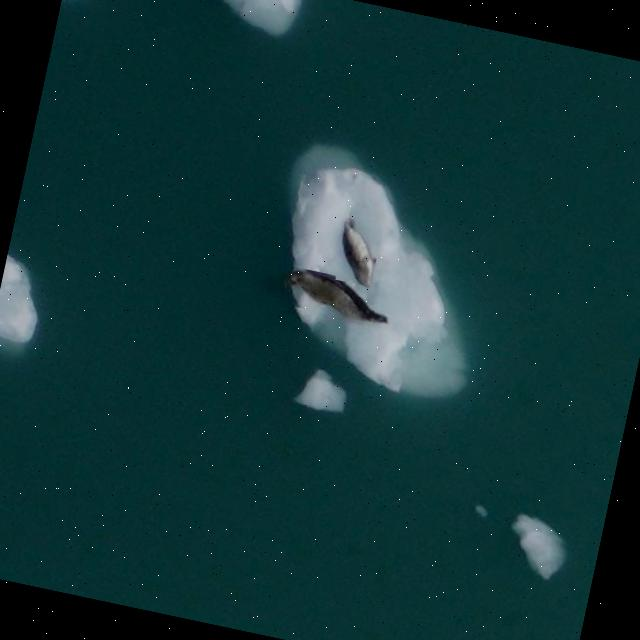seal: (282, 251, 394, 348), (331, 219, 384, 289)
